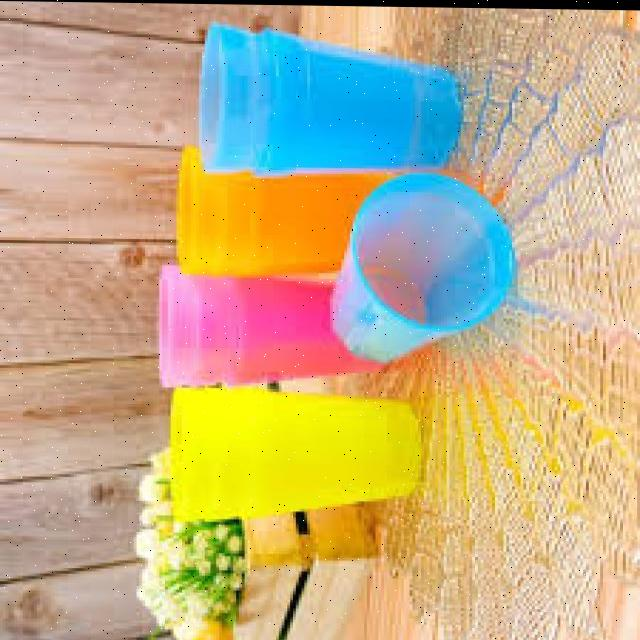cup: (165, 378, 426, 529), (325, 166, 519, 358), (258, 17, 473, 179)
